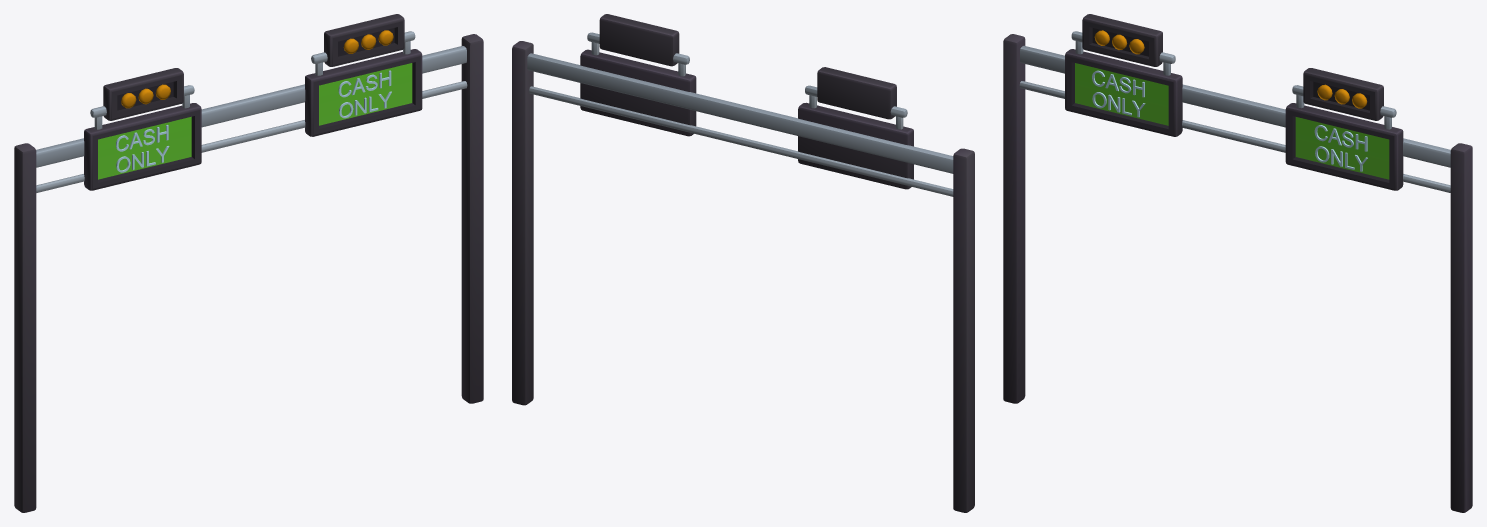
Rendered from Hgs 1.fbx.
3 views of the same model, side by side, from view 1: azimuth 30°, elevation 25°; view 2: azimuth 150°, elevation 25°; view 3: azimuth 330°, elevation 25° (orthographic).
Visible parts, largest first — view 1: Hgs, Box005, Box001, Box002, Box003, Box004, TextPlus002, TextPlus001; view 2: Box001, Hgs, Box002, Box003, Box005, Box004; view 3: Hgs, Box005, Box002, Box001, Box003, Box004, TextPlus002, TextPlus001.
Part boxes in pixels (x1,y1,x2,y2): Hgs: (121, 14, 422, 136); Box005: (84, 68, 201, 190); Box001: (14, 143, 36, 512); Box002: (461, 34, 483, 403); Box003: (36, 46, 466, 167); Box004: (36, 81, 467, 192); TextPlus002: (338, 70, 391, 118); TextPlus001: (116, 125, 169, 172); Box001: (953, 148, 974, 512); Hgs: (580, 14, 696, 136); Box002: (512, 41, 533, 405); Box003: (527, 53, 953, 173); Box005: (798, 67, 913, 189); Box004: (529, 85, 953, 196); Hgs: (1094, 30, 1403, 190); Box005: (1065, 14, 1182, 136); Box002: (1450, 143, 1472, 512); Box001: (1003, 34, 1025, 403); Box003: (1020, 45, 1450, 167); Box004: (1019, 31, 1450, 192); TextPlus002: (1314, 125, 1367, 171); TextPlus001: (1092, 70, 1145, 117).
Size of the model in its own units: 40.4 by 34.01 by 2.11.
